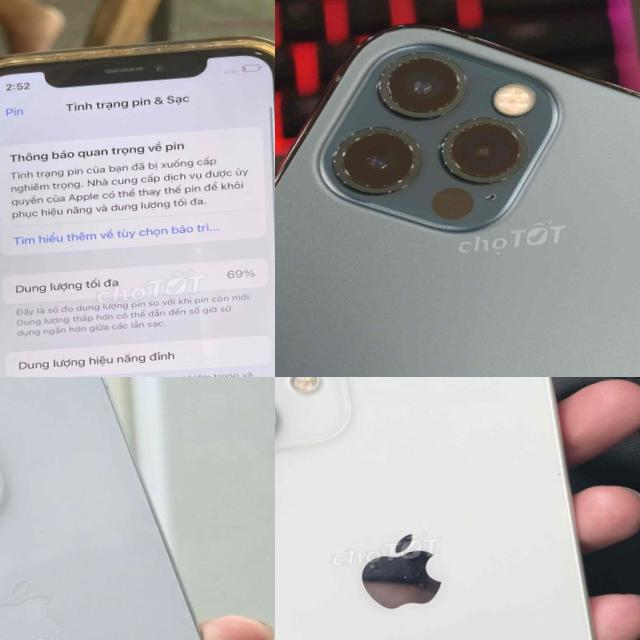scratch: (327, 510, 459, 638)
